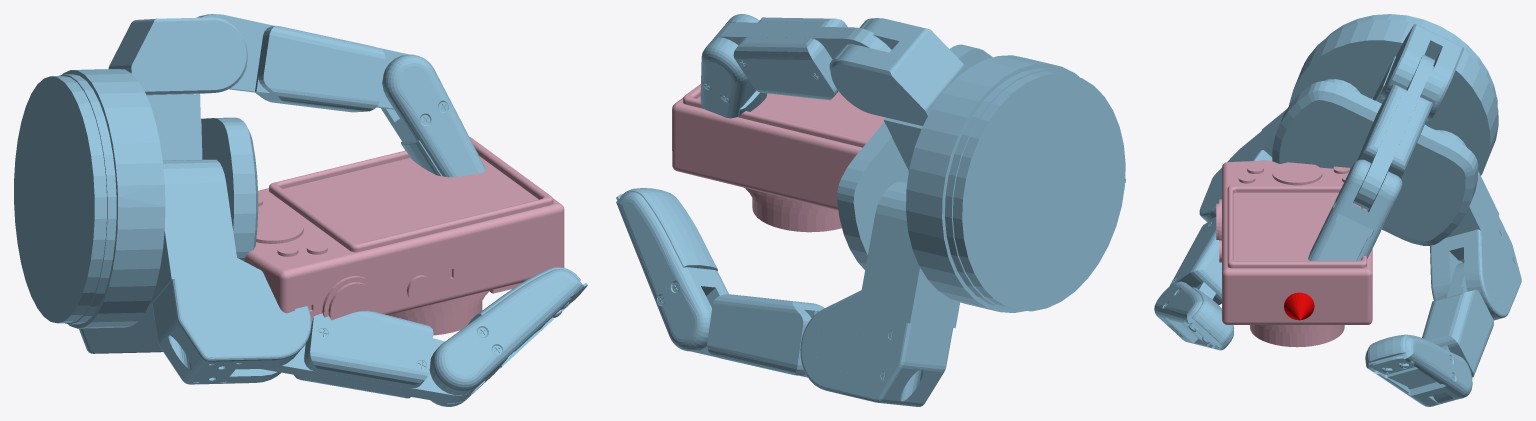
3 renders of one model, left to right at view 1: azimuth 30°, elevation 25°; view 2: azimuth 150°, elevation 25°; view 3: azimuth 270°, elevation 25°, orthographic. The views are drawn at different scales.
Parts seen in each view (by area): view 1: world, camera.stl; view 2: world, camera.stl; view 3: world, camera.stl.
Boxes of the visible parts, bbox=[...] form: world: bbox=[14, 14, 587, 406]; camera.stl: bbox=[244, 136, 564, 335]; world: bbox=[616, 14, 1125, 406]; camera.stl: bbox=[672, 84, 885, 232]; world: bbox=[1154, 14, 1521, 406]; camera.stl: bbox=[1216, 160, 1372, 347].
Bounding box in the file's own units: 0.184 × 0.142 × 0.1579.
